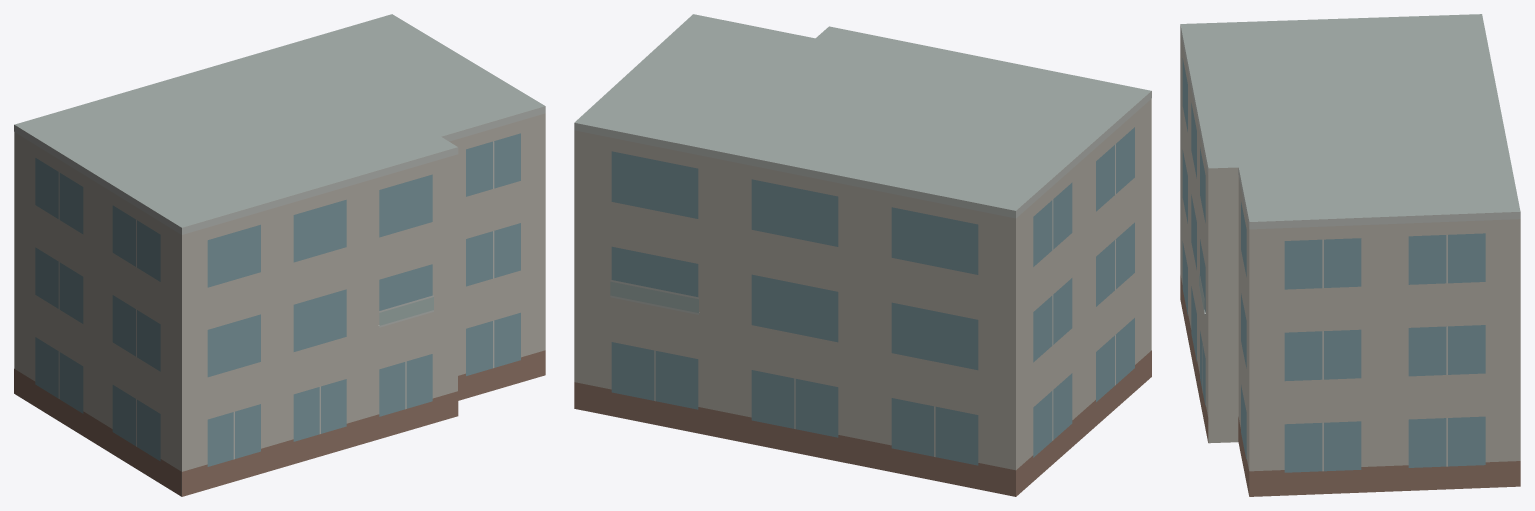
File: survey-upis-32727407.glb
3 views of the same model, side by side, from view 1: azimuth 30°, elevation 25°; view 2: azimuth 150°, elevation 25°; view 3: azimuth 270°, elevation 25° (orthographic). The views are drawn at different scales.
Visible parts, largest first — view 1: survey-upis-32727407.tmp; view 2: survey-upis-32727407.tmp; view 3: survey-upis-32727407.tmp.
Part boxes in pixels (<box>): survey-upis-32727407.tmp: <box>14,14,545,496</box>; survey-upis-32727407.tmp: <box>574,14,1151,496</box>; survey-upis-32727407.tmp: <box>1180,14,1520,496</box>.
Size of the model in its own units: 14.87 by 9.15 by 10.28.
